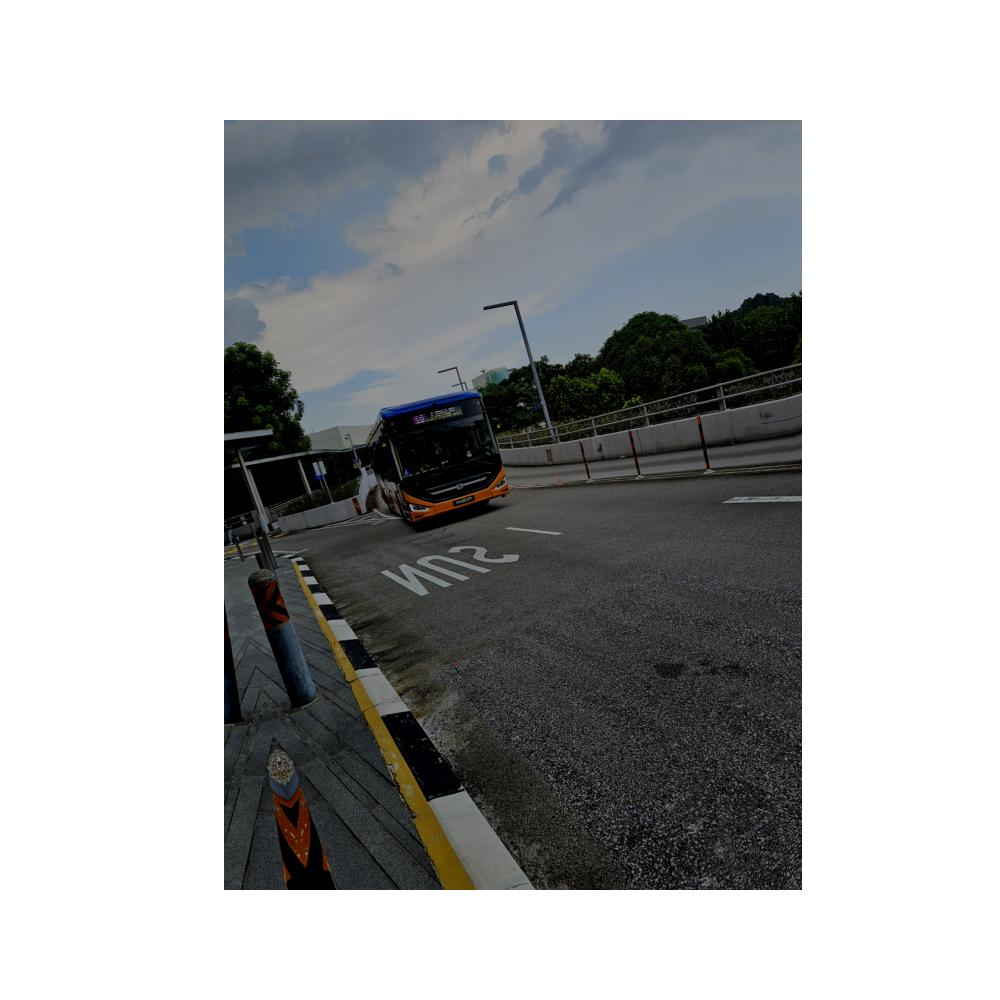bus: (358, 388, 514, 525)
